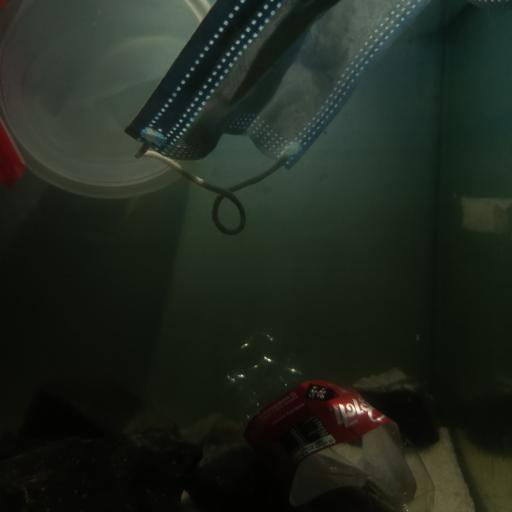mask: (123, 0, 420, 237)
plastic_bottle: (199, 325, 434, 512)
plastic_cup: (2, 0, 242, 202)
